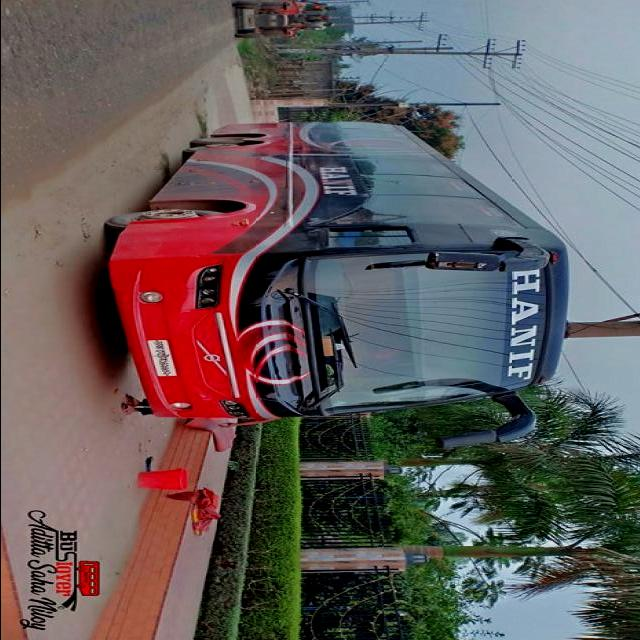bus: (103, 121, 576, 451)
